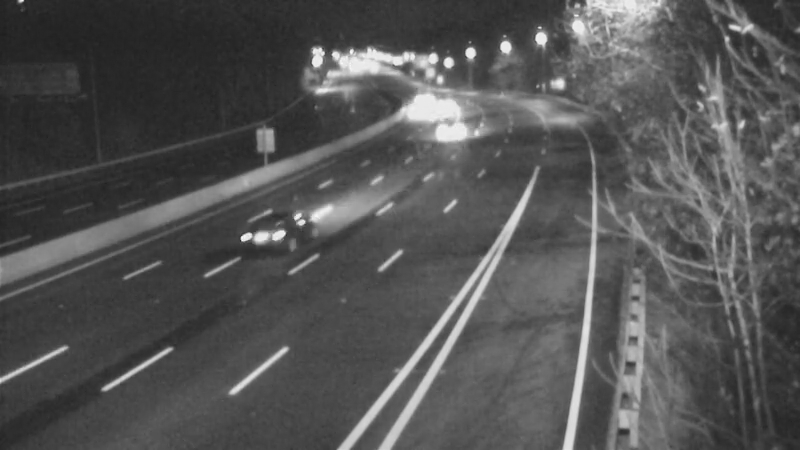vehicle: (234, 195, 314, 275), (396, 73, 446, 123), (422, 80, 472, 130), (395, 78, 445, 128), (410, 94, 460, 144), (429, 105, 479, 155)
